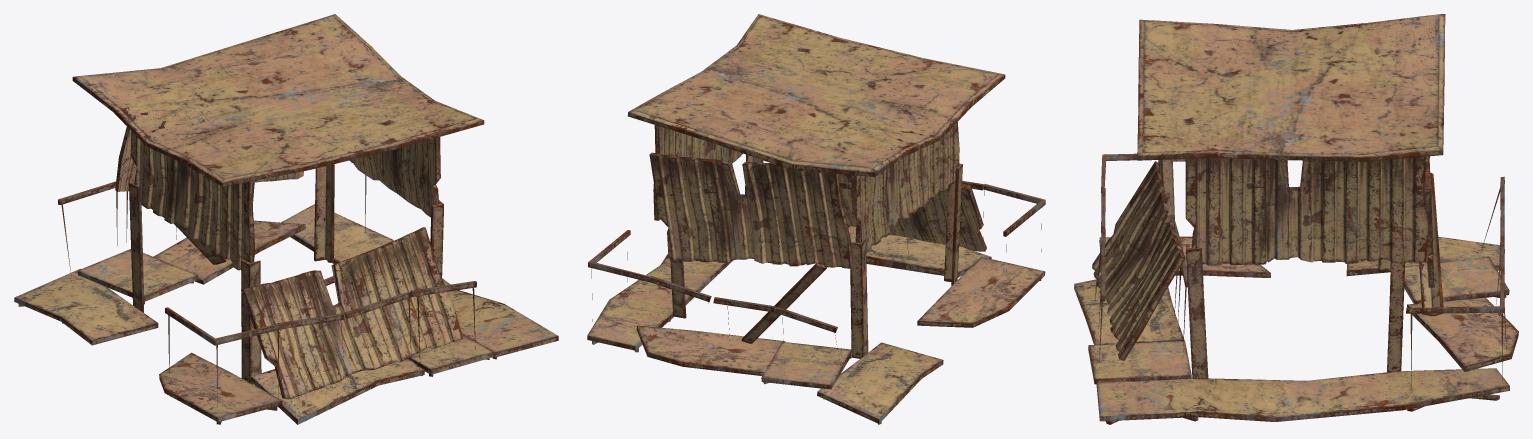
The model's file is SM_Structure_Top.fbx.
3 renders of one model, left to right at view 1: azimuth 30°, elevation 25°; view 2: azimuth 150°, elevation 25°; view 3: azimuth 270°, elevation 25°, orthographic. The views are drawn at different scales.
Visible parts, largest first — view 1: SM_Structure_Top_LOD0; view 2: SM_Structure_Top_LOD0; view 3: SM_Structure_Top_LOD0.
Part boxes in pixels (bbox=[...]): SM_Structure_Top_LOD0: bbox=[14, 14, 558, 424]; SM_Structure_Top_LOD0: bbox=[587, 14, 1045, 424]; SM_Structure_Top_LOD0: bbox=[1074, 14, 1518, 424].
Bounding box in the file's own units: 404 × 411 × 263.
1 material, 1 textured.
